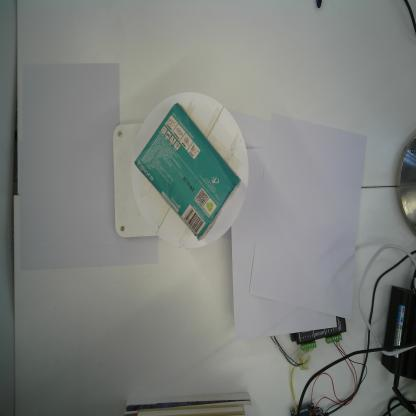Tissue: (132, 100, 242, 243)
